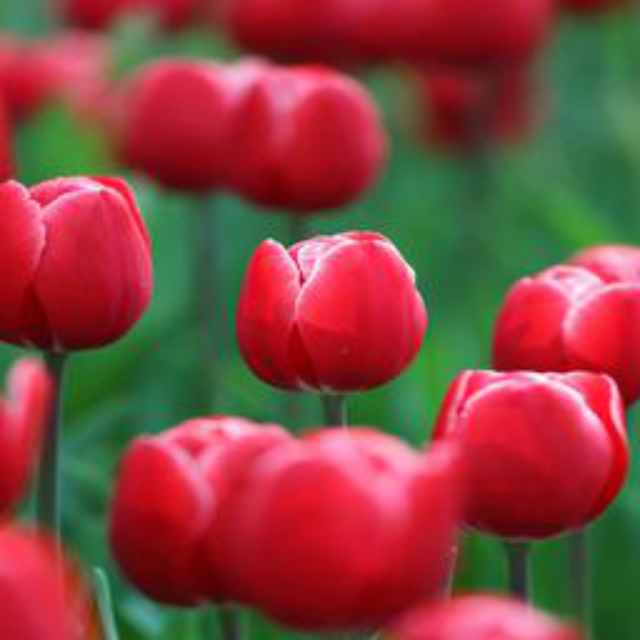tulip: (439, 359, 630, 555), (111, 418, 290, 619), (234, 230, 430, 398), (1, 170, 157, 365), (228, 58, 391, 218), (492, 240, 639, 405)
